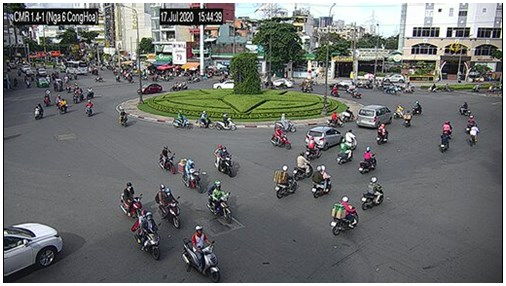xe_hoi: (4, 221, 67, 278), (306, 127, 343, 150), (358, 105, 391, 128), (137, 83, 164, 93), (383, 73, 405, 84), (273, 77, 294, 88), (213, 81, 238, 88), (36, 77, 48, 87), (37, 67, 47, 75), (22, 64, 30, 71)
xe_may: (179, 227, 221, 281), (137, 209, 161, 260), (157, 184, 183, 230), (330, 195, 358, 236), (208, 182, 234, 225), (214, 144, 237, 178), (274, 164, 295, 199), (362, 178, 383, 213), (158, 144, 179, 176), (122, 182, 140, 219), (313, 165, 332, 200), (184, 157, 202, 192), (358, 145, 378, 173), (270, 126, 291, 151), (294, 152, 312, 181), (169, 110, 193, 131), (194, 110, 216, 132), (336, 138, 354, 163), (277, 114, 298, 133), (215, 113, 238, 130), (305, 137, 321, 160), (376, 123, 389, 147), (345, 129, 356, 151), (439, 132, 451, 152), (71, 85, 83, 104), (351, 85, 366, 99), (118, 108, 128, 129), (328, 113, 342, 127), (409, 99, 421, 115), (442, 119, 452, 138), (467, 114, 477, 133), (341, 108, 353, 123), (458, 99, 469, 115), (33, 103, 43, 120), (58, 98, 69, 113), (381, 84, 397, 94), (44, 90, 53, 107), (84, 99, 92, 117), (392, 104, 402, 117), (298, 81, 312, 90), (427, 83, 441, 92), (330, 84, 341, 95), (471, 83, 483, 93), (403, 110, 410, 127), (403, 83, 416, 92), (186, 73, 199, 82), (71, 70, 81, 80), (85, 87, 94, 98), (168, 80, 177, 91), (177, 82, 188, 91), (55, 94, 62, 107), (23, 76, 33, 85), (94, 75, 103, 82), (113, 74, 120, 82)
